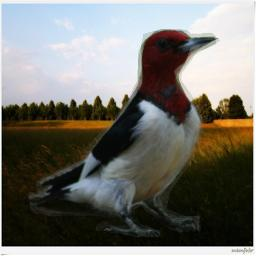Woodpecker: (28, 29, 221, 237)
